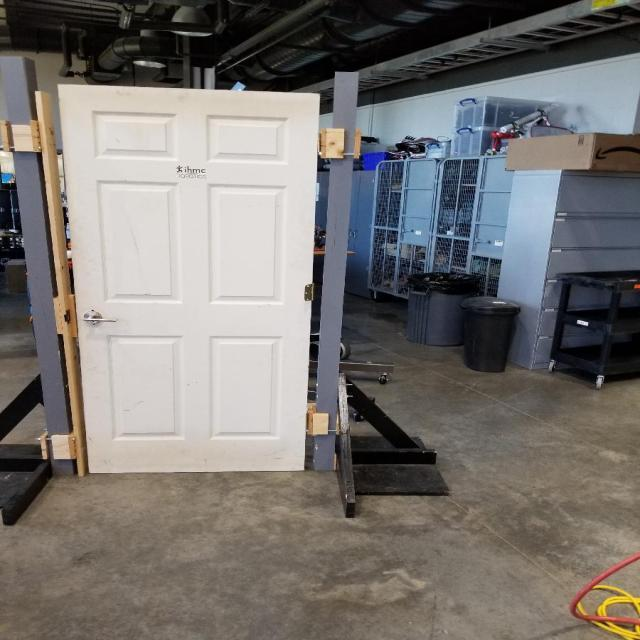door: (51, 80, 320, 476), (82, 310, 120, 326)
